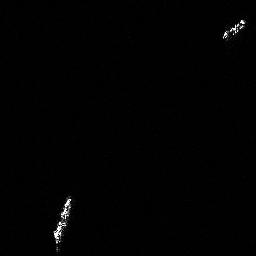ship: (48, 192, 76, 252), (220, 16, 248, 42)
